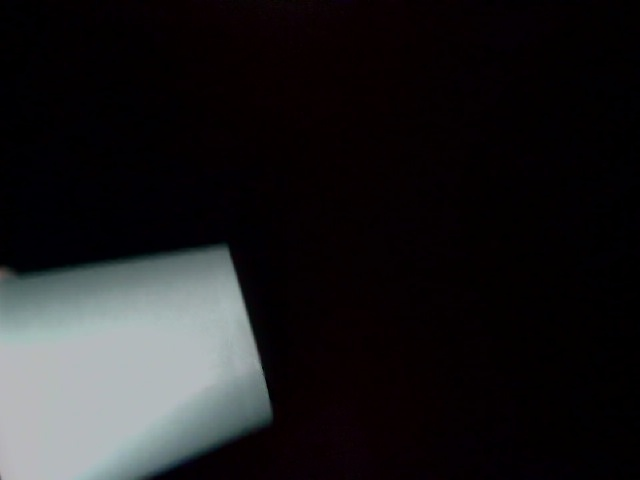CYLJ: (237, 139, 358, 262)
